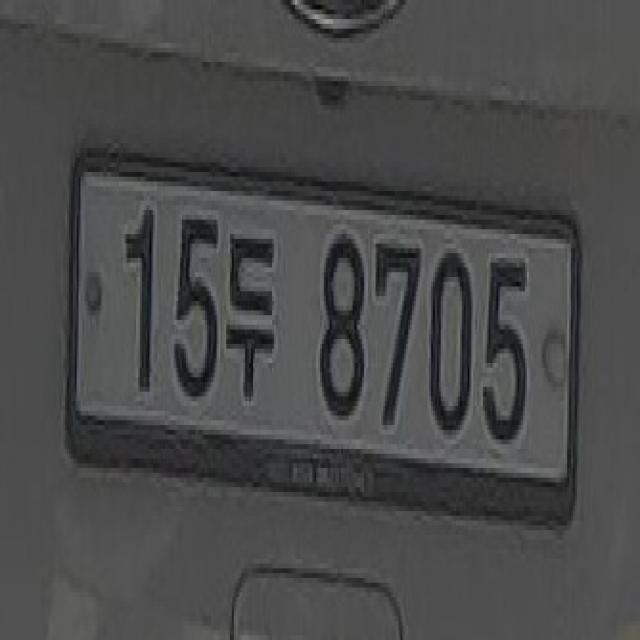0: (426, 230, 476, 440)
1: (115, 191, 163, 406)
5: (479, 234, 535, 454), (169, 196, 222, 415)
7: (370, 229, 421, 435)
8: (318, 215, 366, 430)
du: (224, 220, 280, 410)
license_plate: (59, 129, 588, 549)
